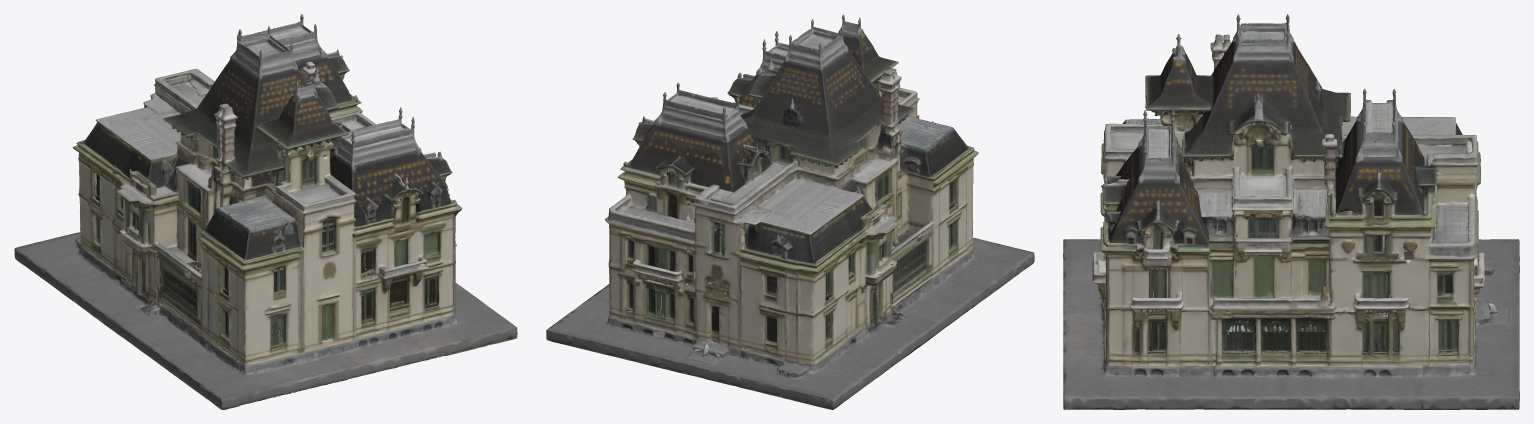
The model's file is museelumiere.glb.
3 views of the same model, side by side, from view 1: azimuth 30°, elevation 25°; view 2: azimuth 150°, elevation 25°; view 3: azimuth 270°, elevation 25° (orthographic). The views are drawn at different scales.
Visible parts, largest first — view 1: geometry_0; view 2: geometry_0; view 3: geometry_0.
Part boxes in pixels (<box>): geometry_0: <box>14,14,517,409</box>; geometry_0: <box>546,14,1034,409</box>; geometry_0: <box>1063,14,1519,409</box>.
Size of the model in its own units: 0.8242 by 0.7285 by 1.
Materials: 1 (1 with a texture image).
